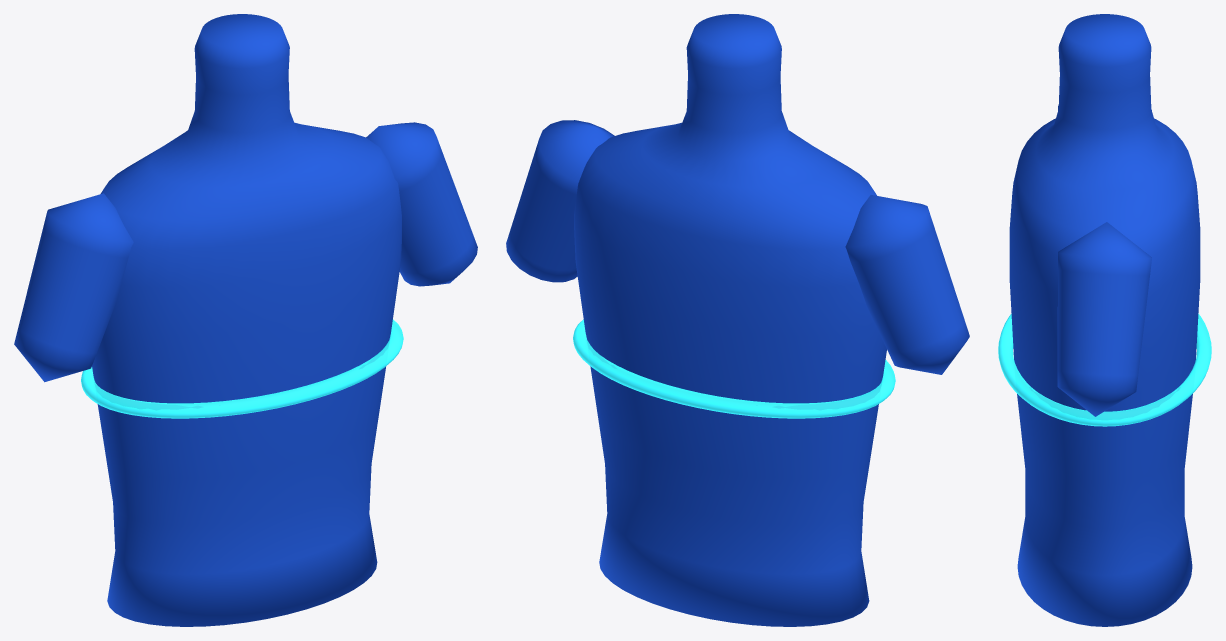
The model's file is lungs3d.glb.
3 views of the same model, side by side, from view 1: azimuth 30°, elevation 25°; view 2: azimuth 150°, elevation 25°; view 3: azimuth 270°, elevation 25° (orthographic). The views are drawn at different scales.
Parts seen in each view (by area): view 1: Torso, ArmR, ArmL, MuscleRing; view 2: Torso, ArmR, ArmL, MuscleRing; view 3: Torso, ArmL, MuscleRing.
Part boxes in pixels (bbox=[...]): Torso: bbox=[92, 14, 401, 626]; ArmR: bbox=[14, 193, 133, 382]; ArmL: bbox=[366, 122, 477, 286]; MuscleRing: bbox=[81, 319, 403, 418]; Torso: bbox=[574, 14, 886, 626]; ArmR: bbox=[845, 195, 969, 374]; ArmL: bbox=[506, 120, 614, 282]; MuscleRing: bbox=[573, 319, 895, 418]; Torso: bbox=[1009, 14, 1200, 626]; ArmL: bbox=[1057, 222, 1151, 416]; MuscleRing: bbox=[998, 313, 1211, 426].
Size of the model in its own units: 19.15 by 22.3 by 8.06.
